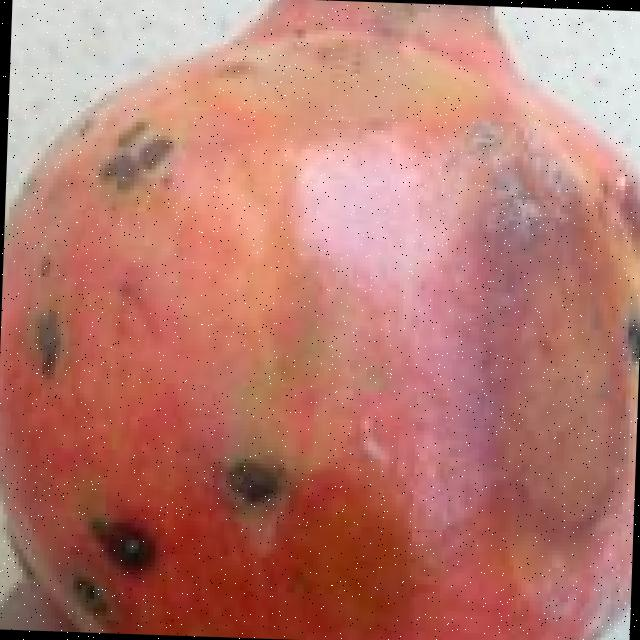Bad_Pomegranate-0-1-day: (0, 0, 640, 640)
